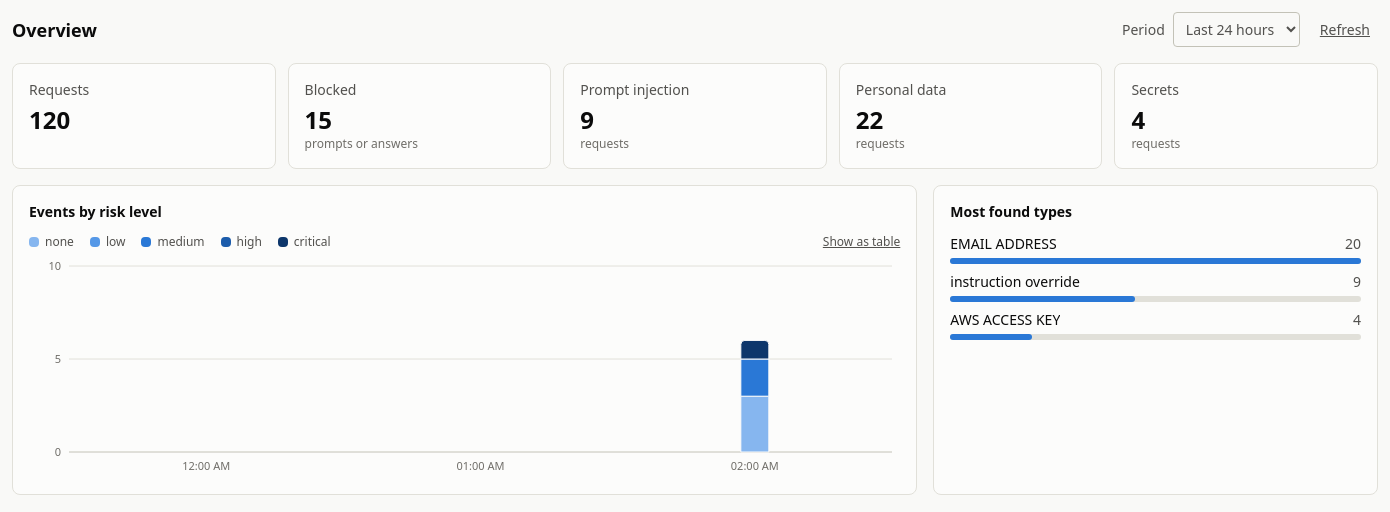
it: overview › can show the chart as a table
Click the button "Show as table" at [862, 242], box [823, 234, 900, 250]
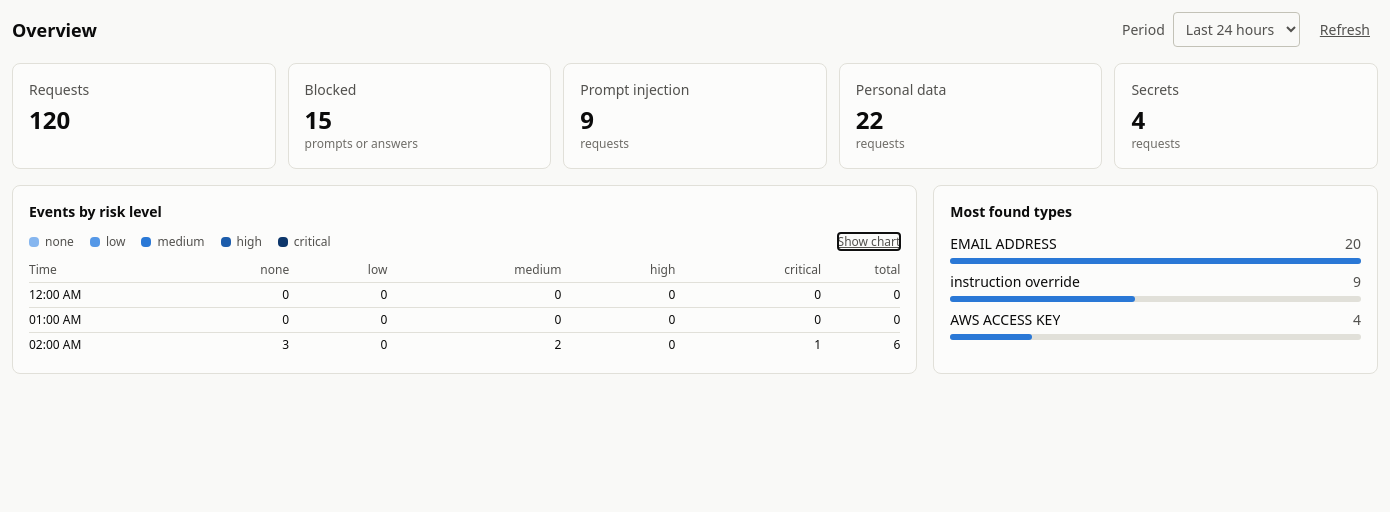
expect the number of rows is 4: met, box [29, 258, 900, 282]; [29, 282, 900, 308]; [29, 308, 900, 332]; [29, 332, 900, 357]
